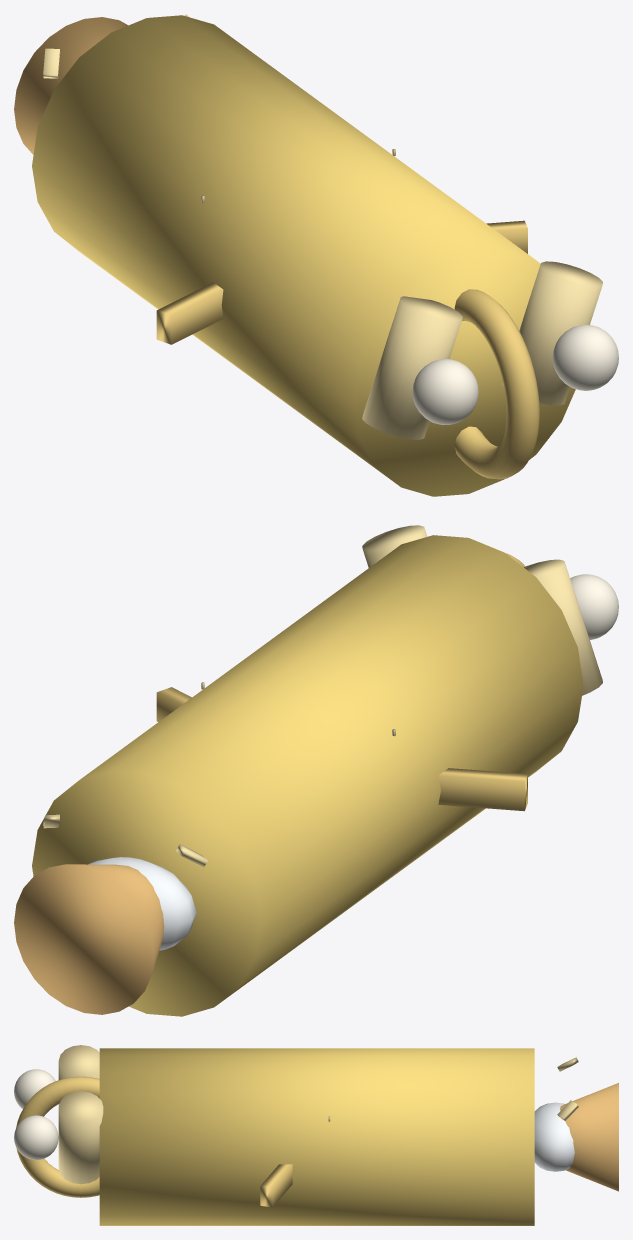
The model's file is DogRocket_1.fbx.
The picture shows the model from 3 angles, top to bottom: view 1: azimuth 30°, elevation 25°; view 2: azimuth 150°, elevation 25°; view 3: azimuth 270°, elevation 25°; orthographic projection. The views are drawn at different scales.
Parts seen in each view (by area): view 1: DogRocket_Body, DogRocket, DogRocket_TailRing, DogRocket_BonePod_-1, DogRocket_Nose, DogRocket_BoneTip_-1, DogRocket_Wing_-1; view 2: DogRocket_Body, DogRocket_Nose, DogRocket_Wing_-1, DogRocket_BonePod_-1, DogRocket_Cockpit, DogRocket, DogRocket_BoneTip_-1; view 3: DogRocket_Body, DogRocket, DogRocket_Nose, DogRocket_TailRing, DogRocket_Cockpit, DogRocket_BonePod_-1, DogRocket_BoneTip_-1.
Boxes of the visible parts, left/top/right/bottom form: DogRocket_Body: left=32, top=15, right=575, bottom=496; DogRocket: left=184, top=14, right=618, bottom=405; DogRocket_TailRing: left=454, top=289, right=539, bottom=479; DogRocket_BonePod_-1: left=362, top=296, right=462, bottom=439; DogRocket_Nose: left=14, top=17, right=127, bottom=154; DogRocket_BoneTip_-1: left=412, top=359, right=478, bottom=424; DogRocket_Wing_-1: left=156, top=282, right=223, bottom=344; DogRocket_Body: left=32, top=535, right=583, bottom=1016; DogRocket_Nose: left=14, top=864, right=164, bottom=1014; DogRocket_Wing_-1: left=438, top=768, right=527, bottom=811; DogRocket_BonePod_-1: left=524, top=559, right=602, bottom=695; DogRocket_Cockpit: left=88, top=857, right=196, bottom=950; DogRocket: left=43, top=525, right=427, bottom=828; DogRocket_BoneTip_-1: left=570, top=574, right=618, bottom=639; DogRocket_Body: left=99, top=1048, right=534, bottom=1225; DogRocket: left=14, top=1091, right=578, bottom=1207; DogRocket_Nose: left=560, top=1083, right=618, bottom=1191; DogRocket_TailRing: left=16, top=1076, right=99, bottom=1197; DogRocket_Cockpit: left=534, top=1102, right=574, bottom=1171; DogRocket_BonePod_-1: left=58, top=1045, right=99, bottom=1106; DogRocket_BoneTip_-1: left=14, top=1069, right=55, bottom=1108.
Size of the model in its own units: 115 by 72 by 244.
